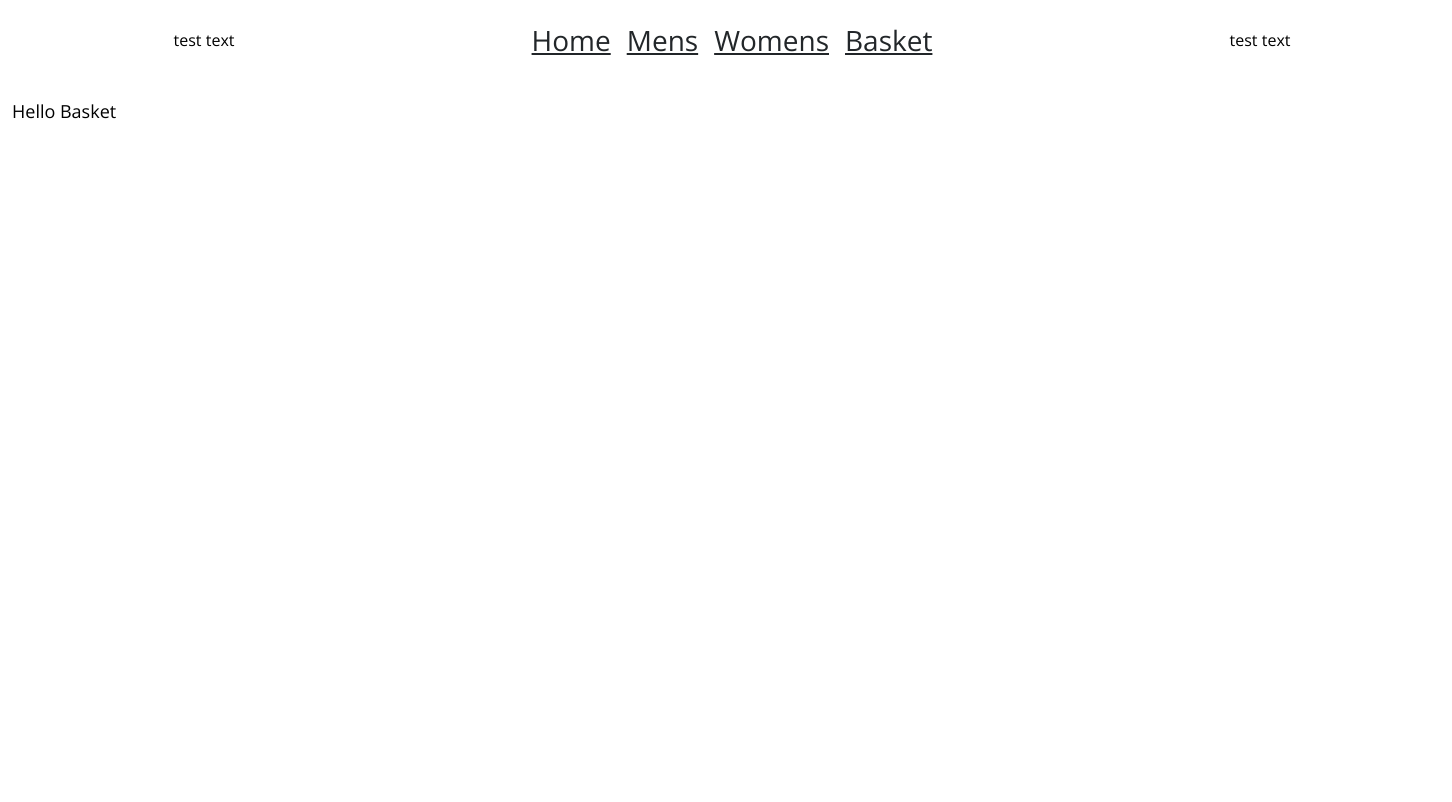
it: renders the Home Page
// find the nav link
What coordinates should you click on to do the following:
click the link "Home"
I would click on:
 (571, 40)
Its box is x1=532 y1=21 x2=611 y2=59.
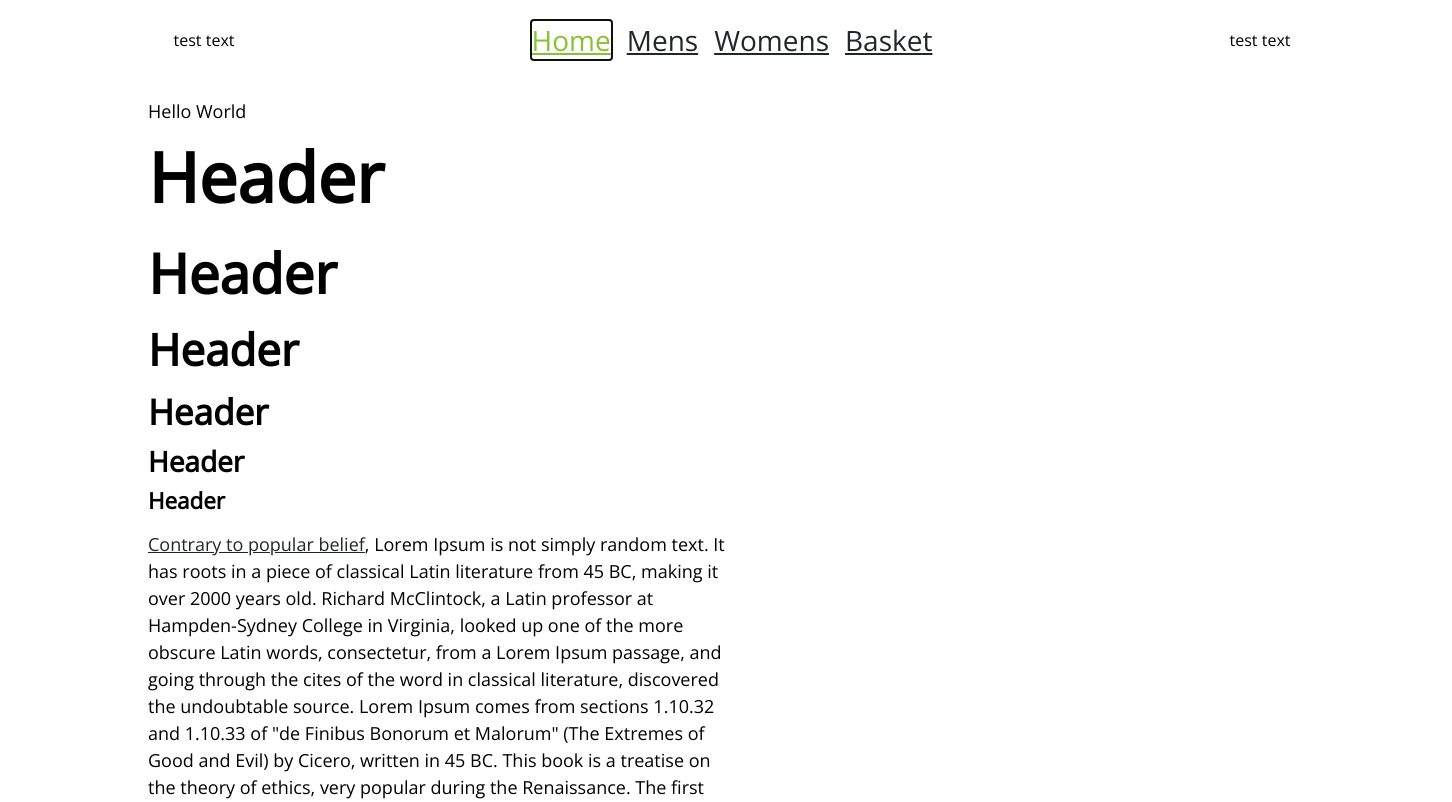
Check: the text "Hello World" is shown, box x1=148 y1=99 x2=246 y2=123
